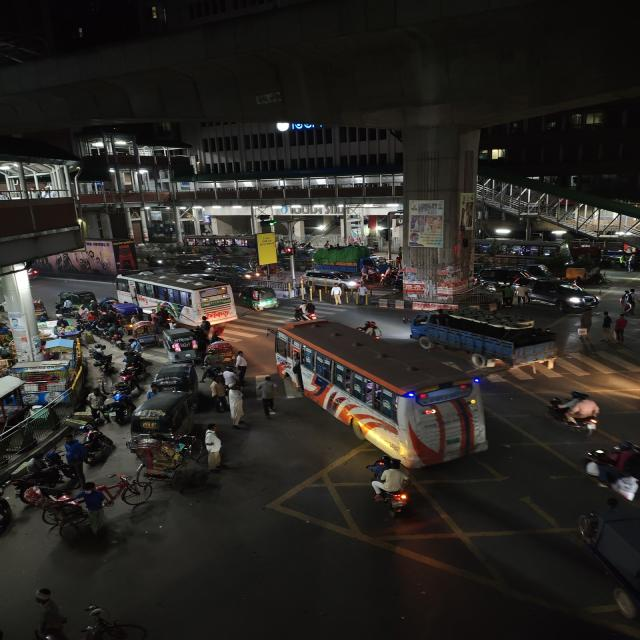bus: (276, 330, 492, 472), (115, 270, 238, 326), (0, 127, 85, 198)
car: (526, 276, 603, 312), (302, 269, 354, 290)
cng: (129, 396, 193, 437), (148, 360, 199, 396), (158, 327, 200, 361), (238, 285, 281, 313), (61, 289, 93, 306)
motorcycle: (581, 442, 640, 506), (363, 458, 418, 518), (546, 391, 608, 442), (74, 426, 116, 462), (294, 300, 320, 322), (358, 319, 384, 340), (362, 269, 382, 285)
pedestrian: (201, 424, 228, 472), (223, 382, 250, 426), (256, 374, 282, 419), (571, 313, 595, 345), (208, 377, 229, 412), (612, 314, 631, 346), (600, 310, 615, 344), (327, 282, 347, 306), (220, 366, 237, 392), (355, 283, 369, 306)
pickup_van: (408, 310, 565, 371), (313, 250, 385, 274)
rickshaw: (32, 478, 156, 527), (123, 436, 198, 493), (202, 340, 236, 370), (130, 322, 156, 349)
